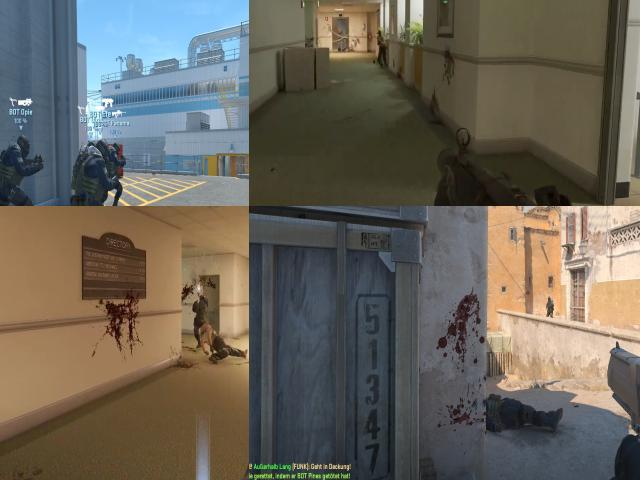CT: (69, 142, 111, 206), (0, 133, 31, 206), (70, 140, 96, 198), (105, 137, 126, 203), (546, 295, 554, 317)
CT-Head: (190, 290, 208, 342), (16, 134, 30, 152), (98, 141, 109, 153), (112, 142, 120, 154), (87, 140, 96, 150), (548, 296, 551, 302)
Dead: (484, 393, 561, 433)
T: (374, 27, 386, 67)
T-Head: (376, 30, 385, 41)
